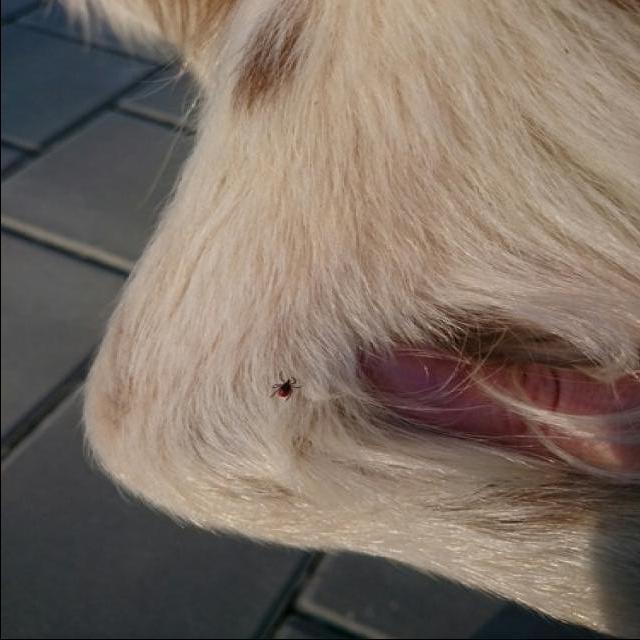Ixodes Ricinus-F: (266, 374, 300, 406)
